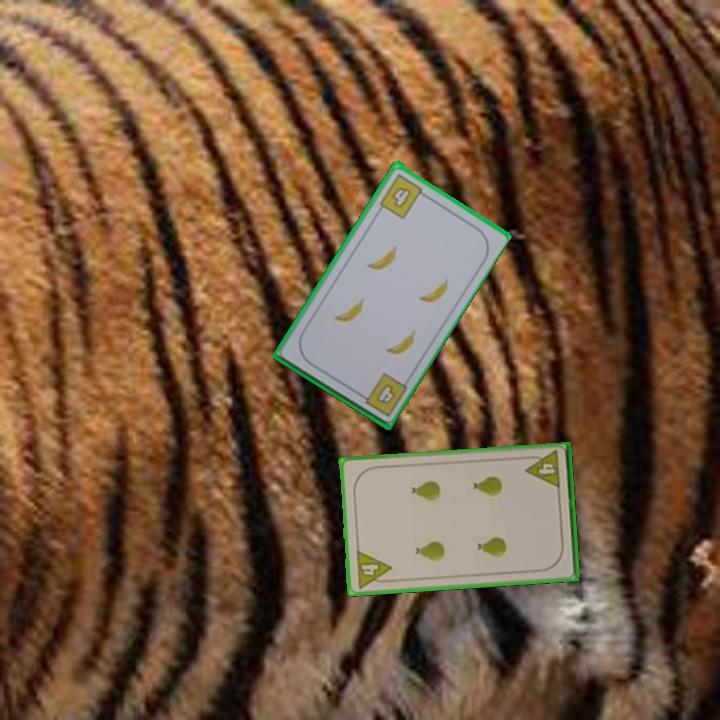4b: (376, 170, 430, 221), (372, 380, 398, 407)
4p: (352, 547, 395, 591), (522, 447, 563, 492)
